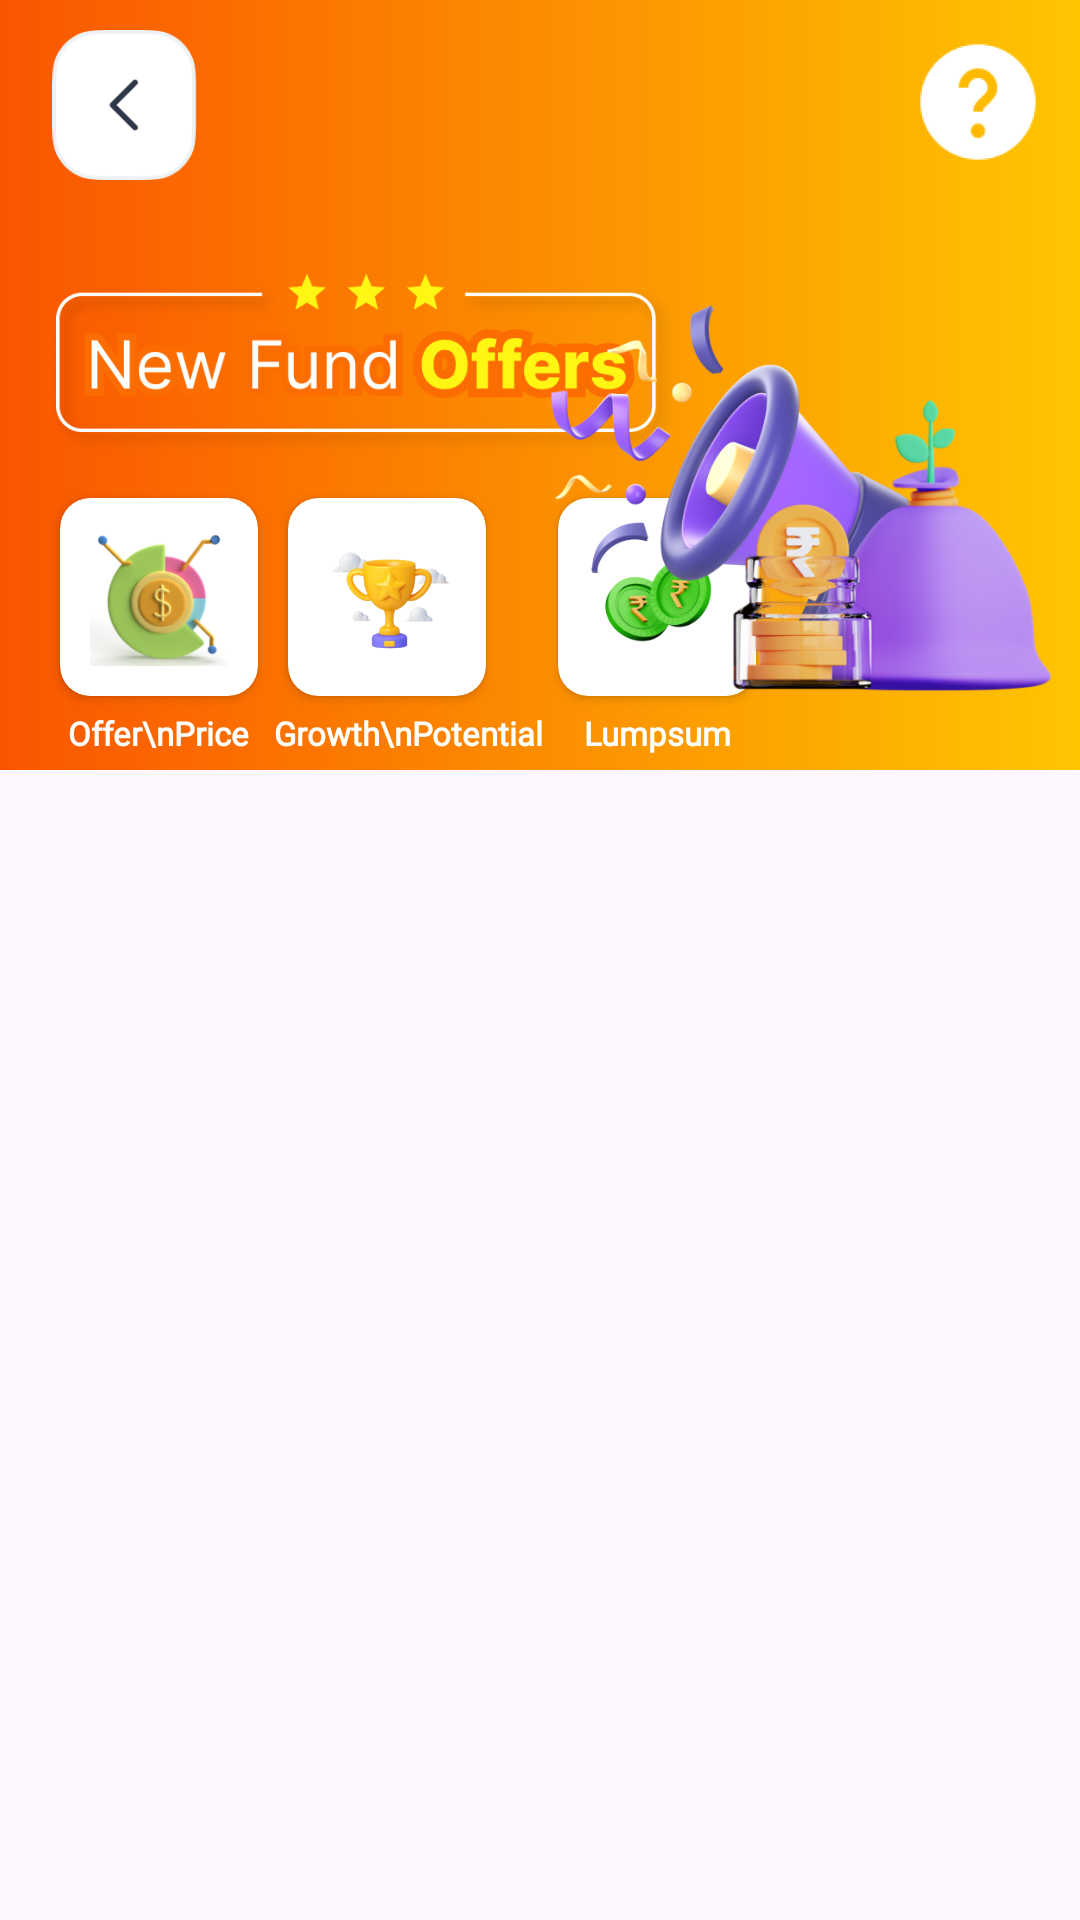

Screen size 1080×1920. Icon name, then its box in pixels as (x1, y1, x2, y2):
back: (52, 30, 197, 180)
help: (920, 44, 1036, 160)
trophy: (336, 553, 449, 649)
